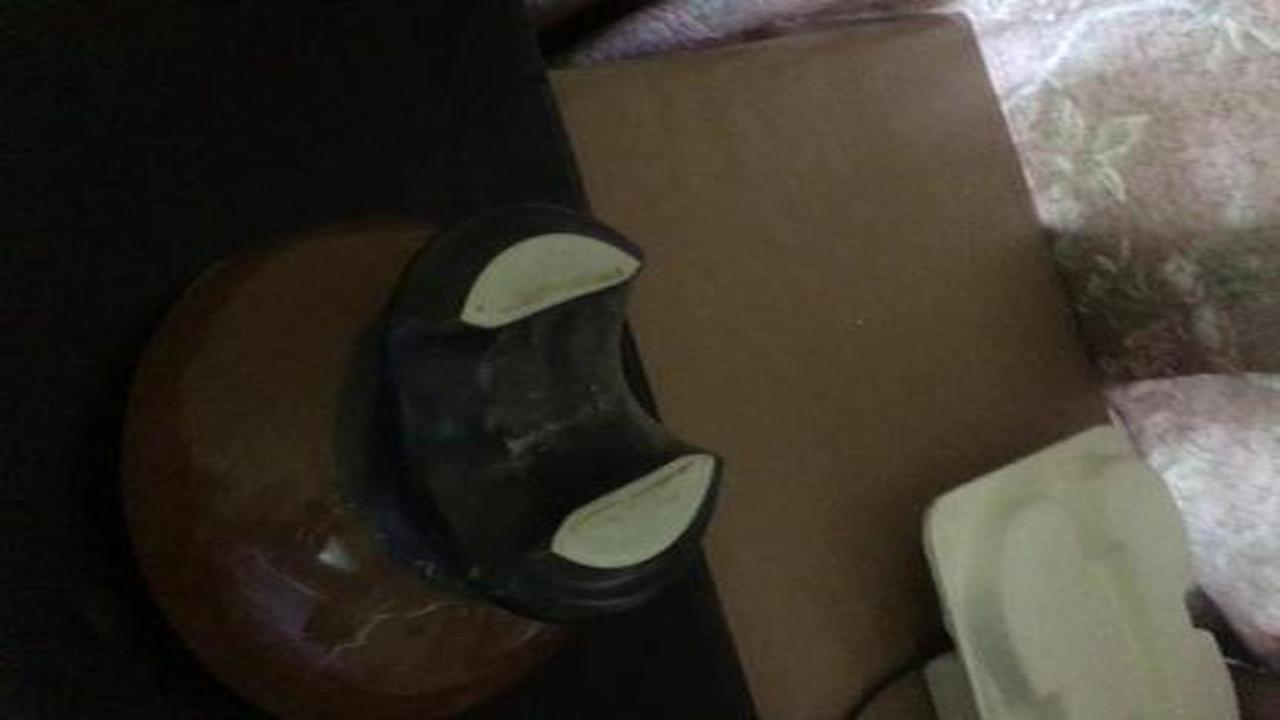insulator_pin: (71, 177, 751, 710)
